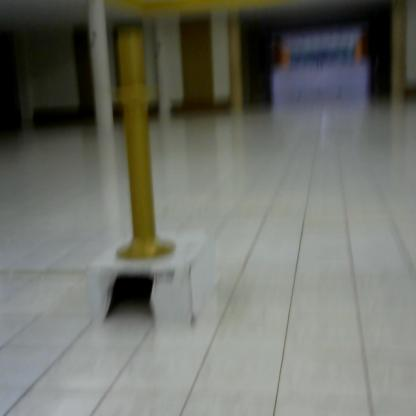pole: (98, 26, 193, 268)
